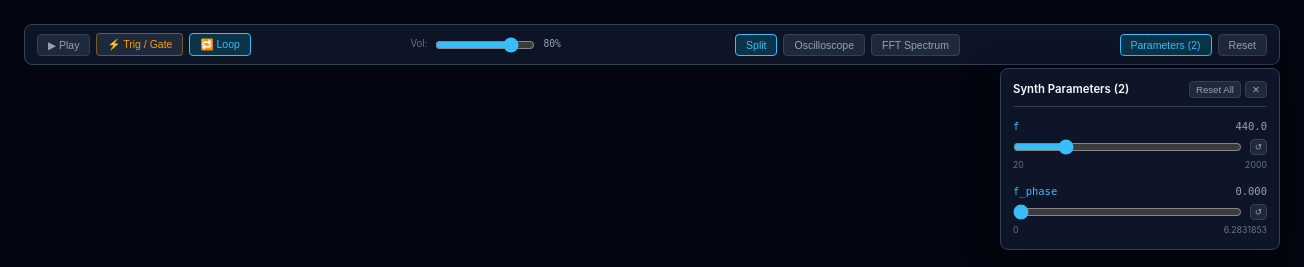
Test case: AudioDSPWidget Component › modulates master volume slider smoothly
This screenshot has width=1304, height=267.
Set the slider with test id "audio-volume-slider" to "0.5" at [485, 44], box [435,36,535,52]
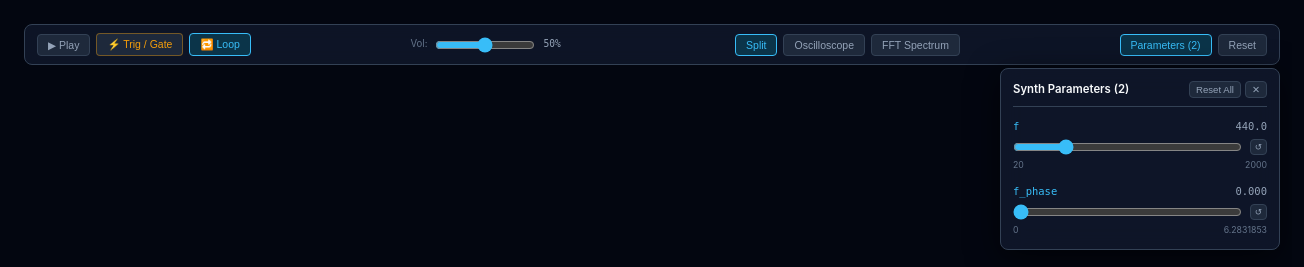
Check: the text "50%" is shown, box [543,38,561,49]
